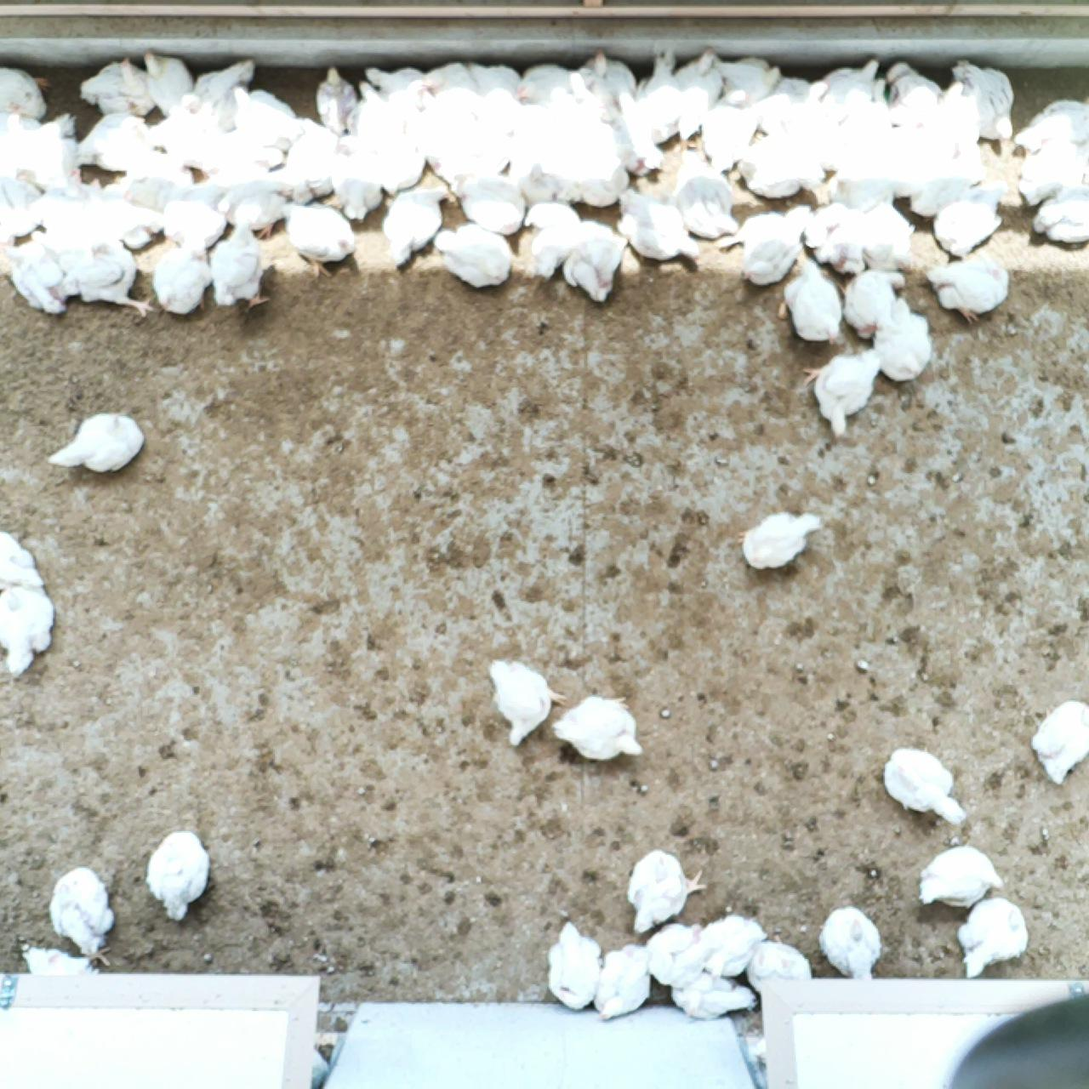chicken: (715, 202, 816, 287), (879, 738, 971, 830), (61, 231, 158, 318), (802, 345, 885, 441), (623, 847, 708, 937), (486, 654, 567, 748), (550, 690, 646, 765), (44, 408, 147, 475), (277, 200, 360, 282), (143, 828, 212, 926), (954, 895, 1029, 982), (923, 255, 1013, 327), (931, 177, 1010, 258), (670, 147, 740, 238), (46, 864, 115, 956), (948, 56, 1019, 145), (206, 215, 271, 310), (916, 848, 1009, 914), (616, 187, 700, 260), (776, 255, 844, 345), (560, 218, 629, 306), (740, 133, 826, 202), (381, 184, 450, 270), (1029, 697, 1089, 793), (434, 219, 514, 291), (735, 509, 823, 574), (183, 57, 258, 133), (872, 293, 933, 386), (546, 917, 604, 1014), (78, 54, 160, 121), (0, 238, 72, 314), (816, 905, 886, 983), (282, 116, 343, 203), (0, 584, 57, 677), (218, 170, 293, 240), (150, 230, 211, 315), (592, 944, 656, 1024), (148, 101, 221, 171), (703, 87, 761, 175), (673, 47, 726, 142), (523, 196, 583, 279), (328, 134, 385, 221), (608, 92, 667, 176), (666, 968, 759, 1021), (699, 911, 767, 982), (1016, 141, 1089, 207), (450, 169, 525, 233), (639, 919, 708, 988), (908, 154, 985, 215), (885, 131, 954, 199), (745, 929, 817, 993), (1013, 93, 1089, 153), (231, 85, 300, 151), (160, 197, 229, 262), (33, 165, 93, 239), (73, 113, 152, 169), (754, 79, 832, 133), (810, 201, 866, 276), (31, 112, 83, 192), (88, 176, 153, 238), (865, 201, 918, 273), (647, 47, 688, 140), (826, 158, 896, 212), (708, 52, 782, 103), (211, 130, 287, 179), (824, 108, 888, 166), (1031, 185, 1089, 248), (370, 127, 426, 192), (561, 159, 632, 210), (138, 51, 194, 114), (885, 63, 938, 129), (516, 61, 590, 107), (128, 149, 191, 202), (19, 943, 114, 978), (313, 63, 359, 135), (578, 48, 637, 104), (822, 54, 884, 107), (363, 63, 436, 108), (933, 80, 982, 145), (0, 528, 46, 595), (0, 64, 52, 122), (349, 75, 395, 140), (0, 112, 40, 182), (0, 178, 45, 238), (425, 124, 477, 174), (472, 86, 526, 134), (526, 106, 572, 160), (388, 81, 437, 130), (516, 156, 562, 205), (423, 61, 480, 99), (468, 59, 520, 100), (573, 108, 613, 161), (479, 134, 529, 175), (430, 84, 474, 127)
